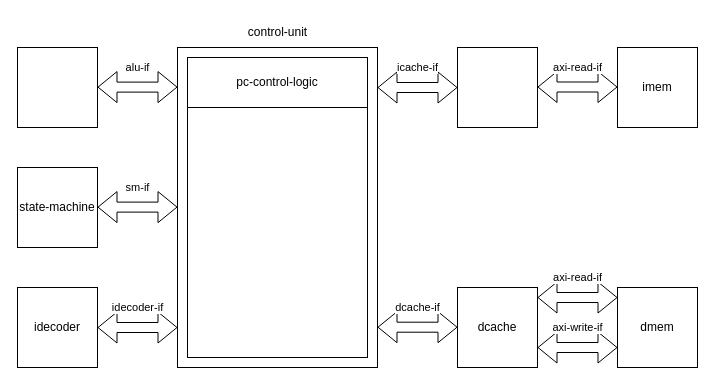
Image size: 715x385. Some labels were removed from this diagram. Here are the shapes that lost their labels. From the top down, the centre of each, then its label:
the point at 57,87: alu
the point at 497,87: icache
the point at 277,232: others-control-logic
